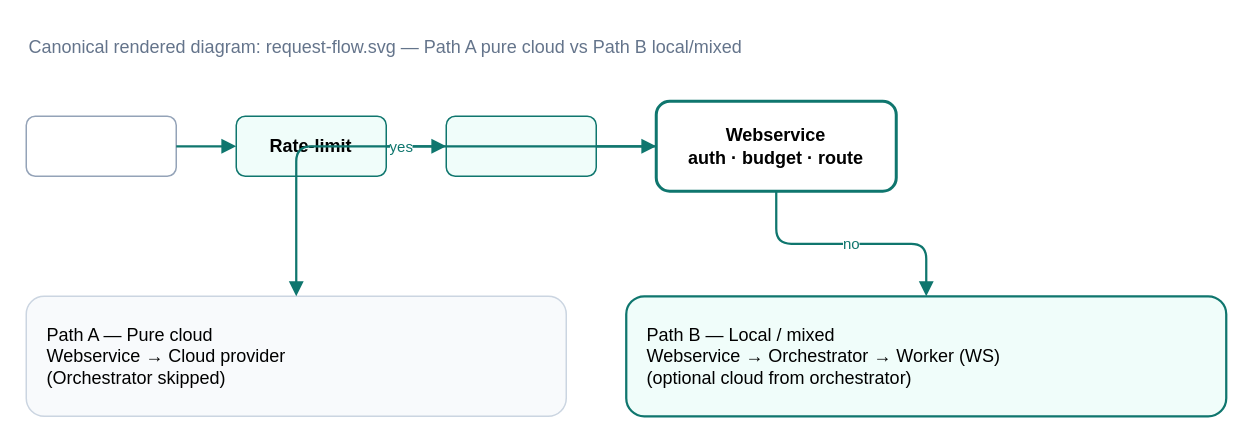
This 1254x443 diagram has some shape labels left out. Each missing label, with the box of its shape:
Client: (25, 115, 176, 176)
Traefik: (445, 115, 596, 176)
